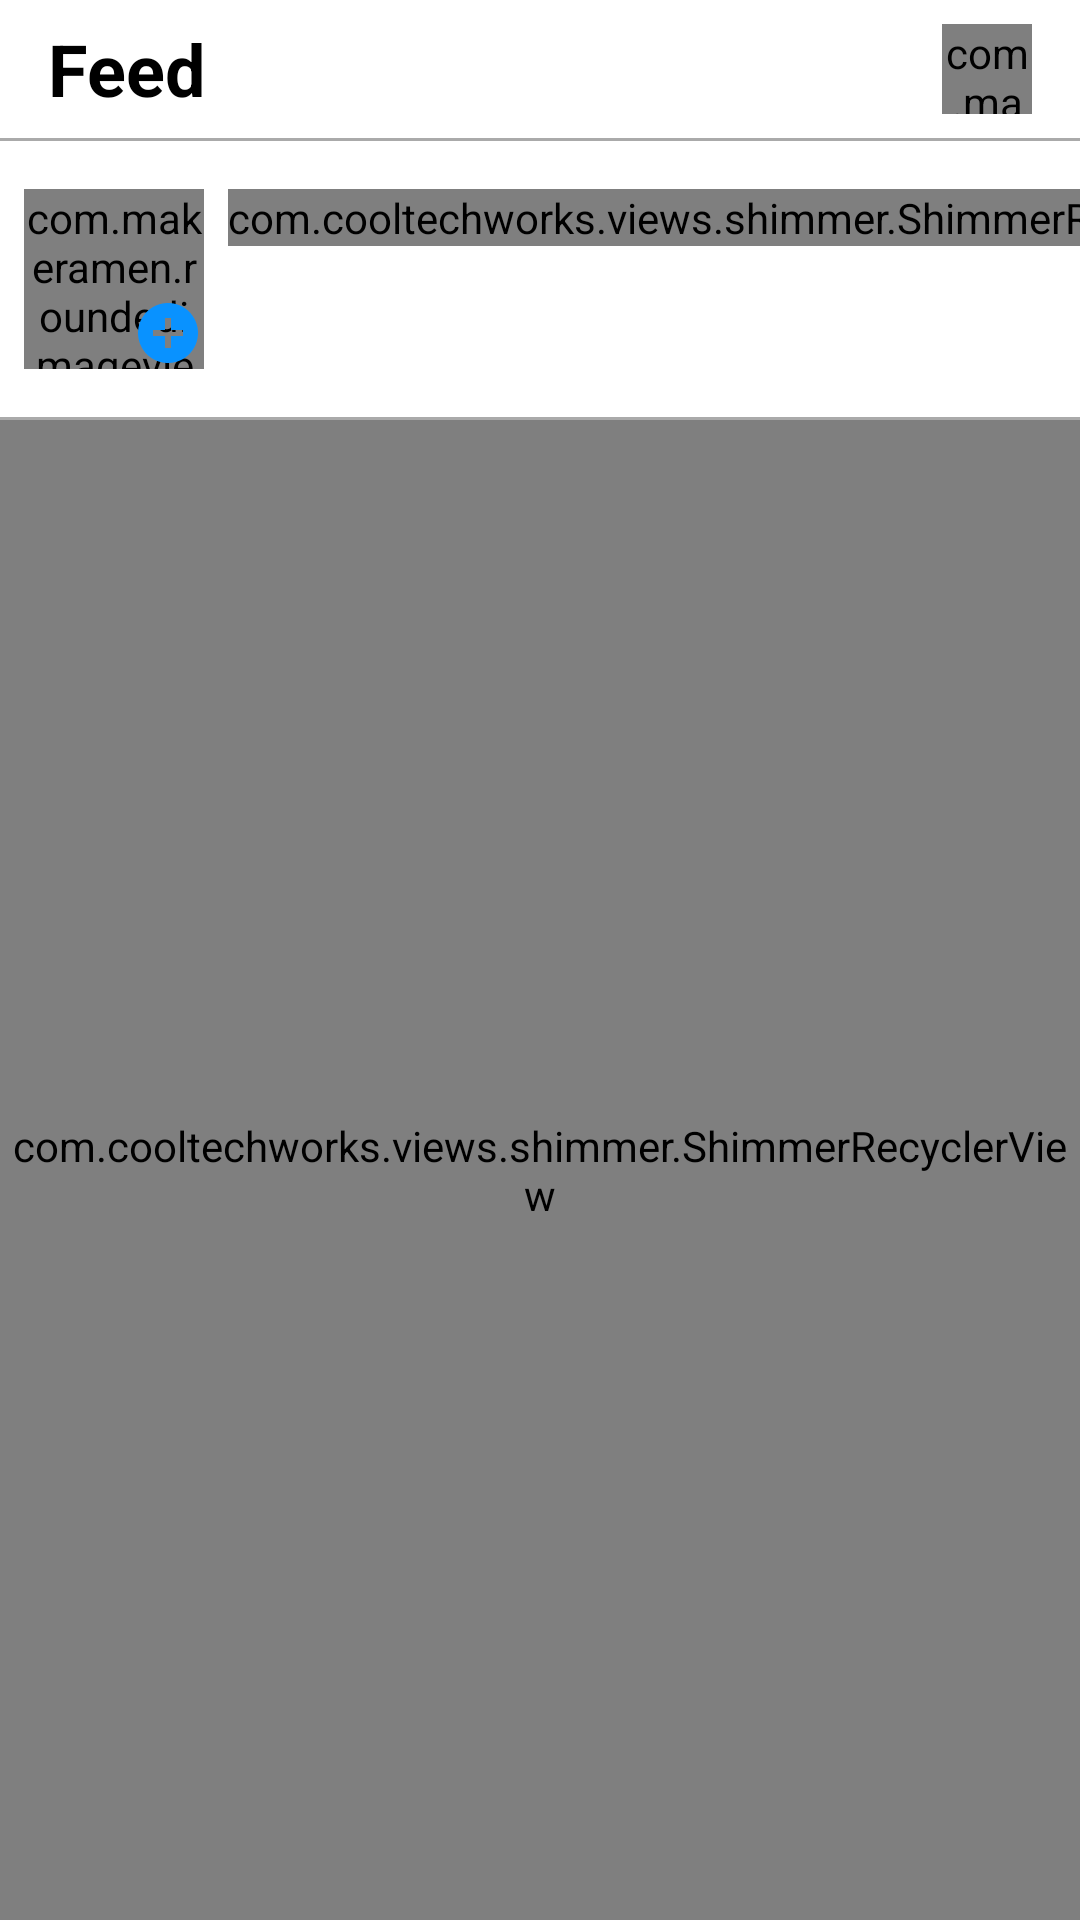

Icon click points for this 1080w x 1920h phone screenshot, format (x,y):
add: (168,333)
